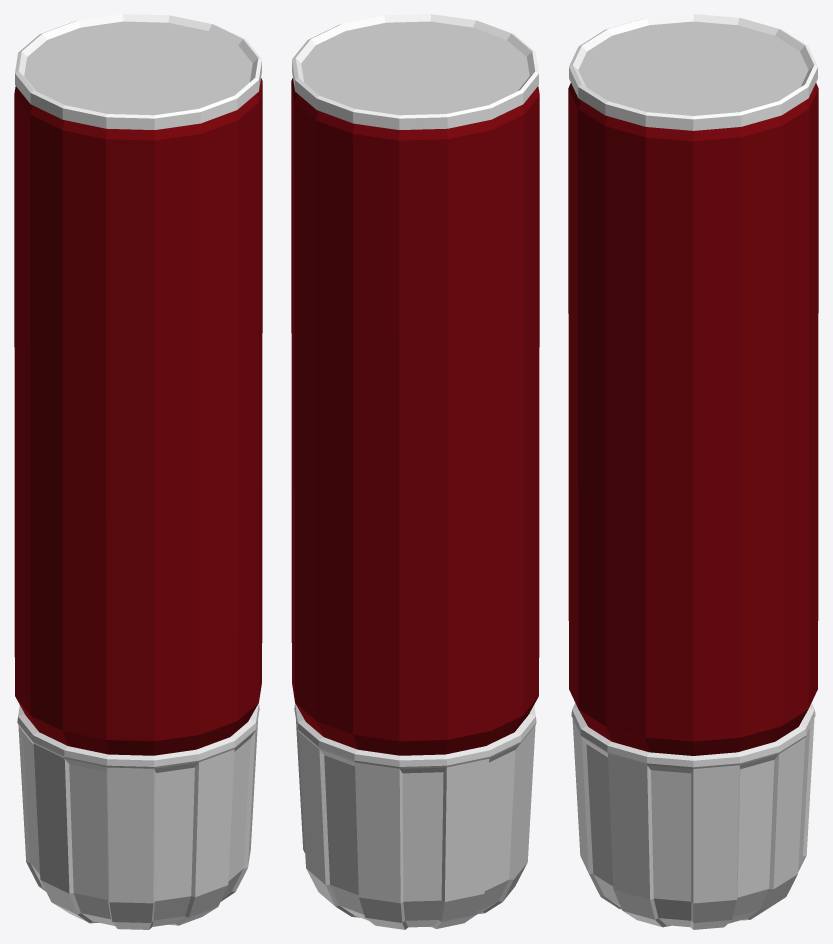
The model's file is WhippedCreamCan.fbx.
3 views of the same model, side by side, from view 1: azimuth 30°, elevation 25°; view 2: azimuth 150°, elevation 25°; view 3: azimuth 270°, elevation 25° (orthographic).
Visible parts, largest first — view 1: Can, Lid; view 2: Can, Lid; view 3: Can, Lid.
Boxes of the visible parts, x1,y1,x2,y2 form: Can: [14, 14, 262, 755]; Lid: [17, 703, 259, 929]; Can: [291, 14, 539, 755]; Lid: [294, 703, 536, 929]; Can: [568, 14, 818, 755]; Lid: [571, 703, 815, 929].
Bounding box in the file's own units: 2.46 × 9.15 × 2.46.
